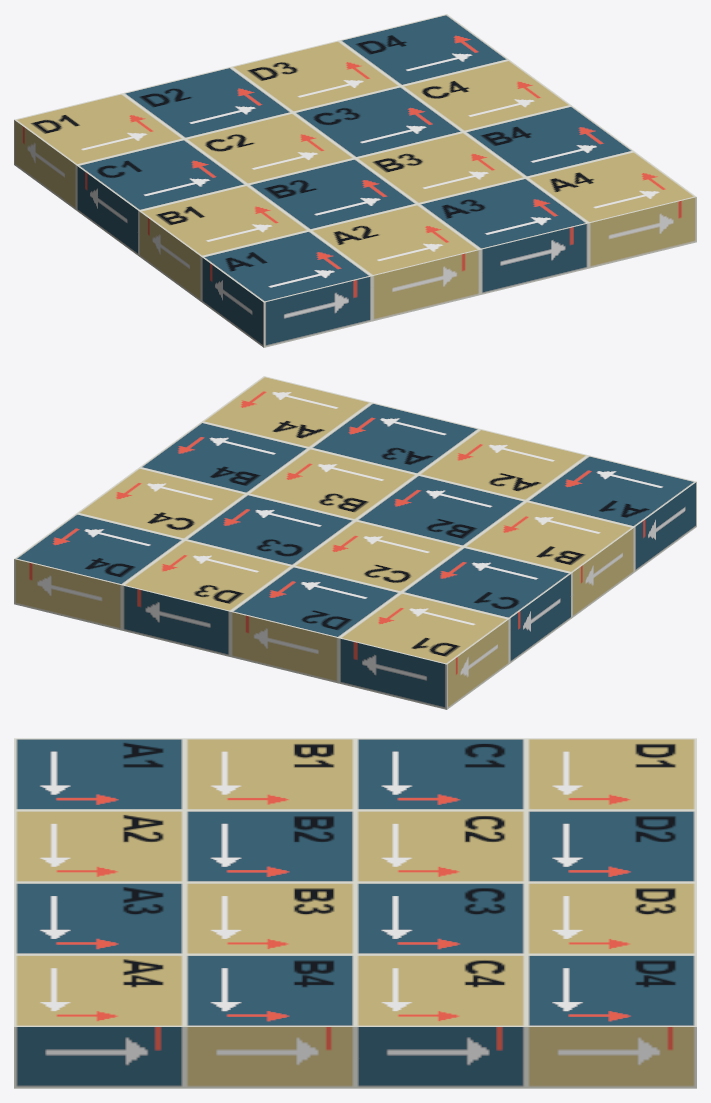
File: LIGHT_RecessedPanel.fbx
3 renders of one model, top to bottom at view 1: azimuth 30°, elevation 25°; view 2: azimuth 150°, elevation 25°; view 3: azimuth 270°, elevation 25°, orthographic. The views are drawn at different scales.
Visible parts, largest first — view 1: LIGHT_RecessedPanel; view 2: LIGHT_RecessedPanel; view 3: LIGHT_RecessedPanel.
Boxes of the visible parts, x1,y1,x2,y2 form: LIGHT_RecessedPanel: [14, 14, 696, 347]; LIGHT_RecessedPanel: [14, 376, 696, 709]; LIGHT_RecessedPanel: [14, 738, 696, 1088].
Size of the model in its own units: 100 by 10 by 100.
Materials: 2 (2 with a texture image).
